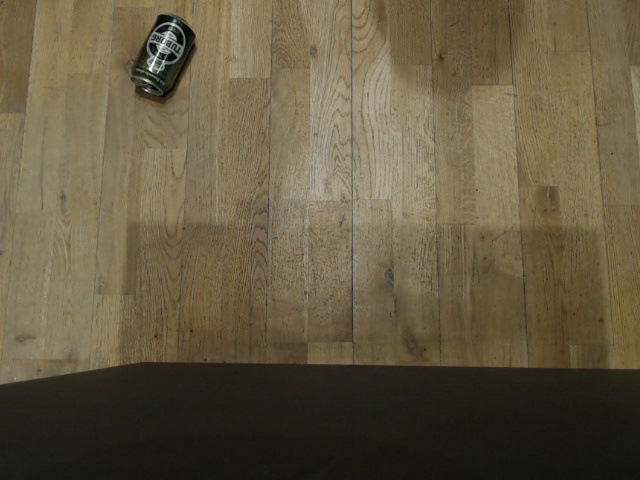beer: (128, 11, 199, 99)
